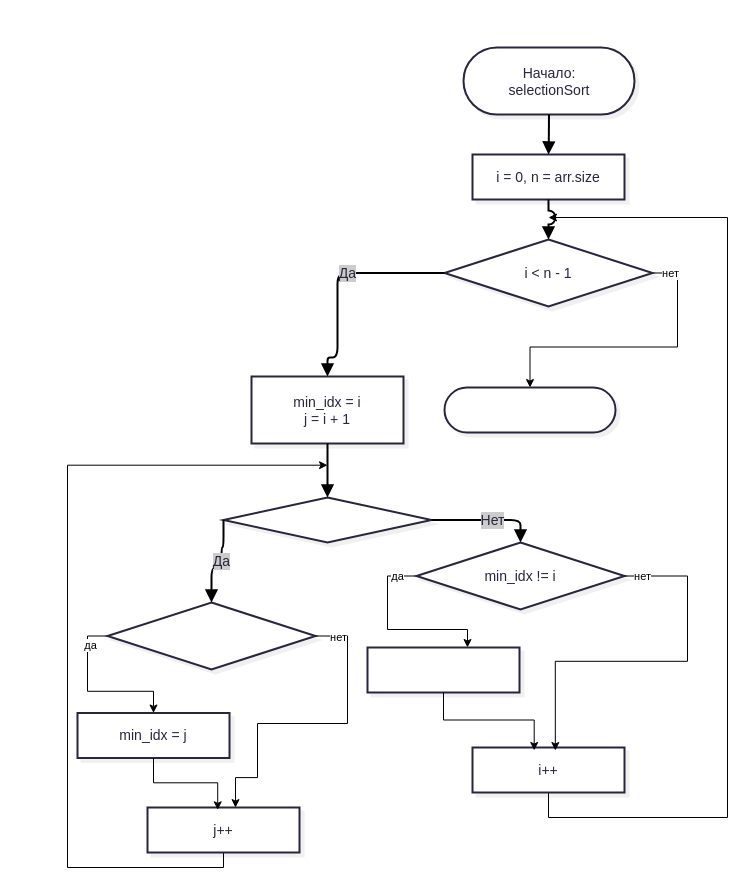
This 753x893 diagram has some shape labels left out. The centre of each missing label's shape, as x and y in pixels:
arr[j] < arr[min_idx]: the point at 213,637
j < n: the point at 329,521
swap arr[i: the point at 445,671
Конец: the point at 531,411
